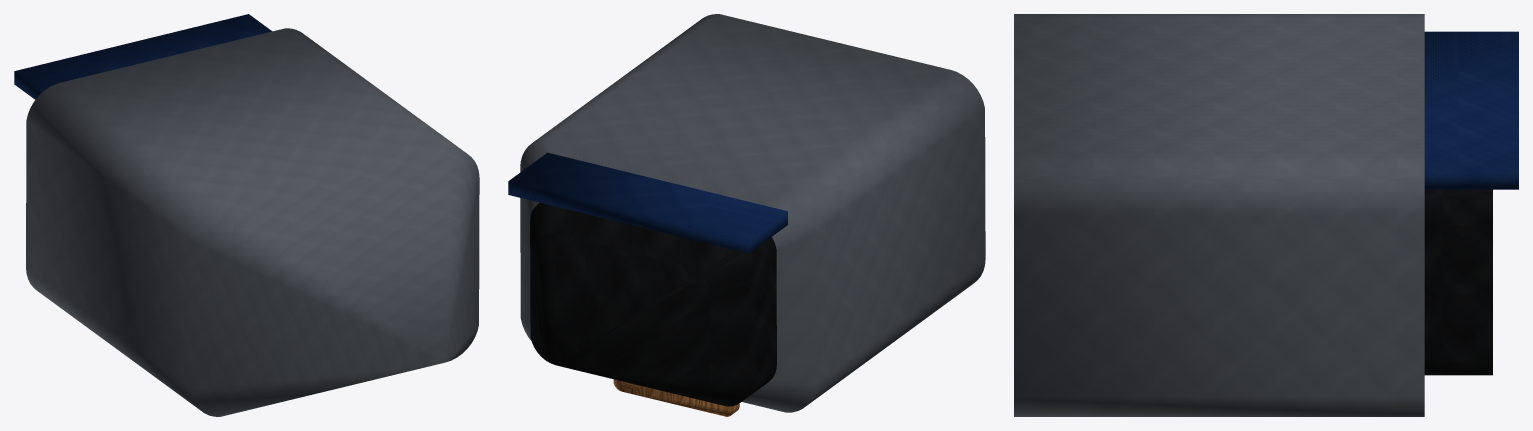
File: FOCUS_POD_001.glb
The picture shows the model from 3 angles, left to right: view 1: azimuth 30°, elevation 25°; view 2: azimuth 150°, elevation 25°; view 3: azimuth 270°, elevation 25°; orthographic projection. The views are drawn at different scales.
Parts seen in each view (by area): view 1: pod_shell_000, inside_back_002; view 2: pod_shell_000, seat_cushion_001, inside_back_002, work_surface_003; view 3: pod_shell_000, inside_back_002, seat_cushion_001.
Part boxes in pixels (x1,y1,x2,y2): pod_shell_000: [26, 28, 479, 416]; inside_back_002: [14, 14, 272, 99]; pod_shell_000: [520, 14, 985, 412]; seat_cushion_001: [530, 202, 776, 406]; inside_back_002: [508, 152, 787, 253]; work_surface_003: [613, 379, 739, 416]; pod_shell_000: [1014, 14, 1424, 416]; inside_back_002: [1424, 31, 1518, 189]; seat_cushion_001: [1424, 189, 1492, 375].
Size of the model in its own units: 1.35 by 1.05 by 1.66.
4 materials, 4 textured.
